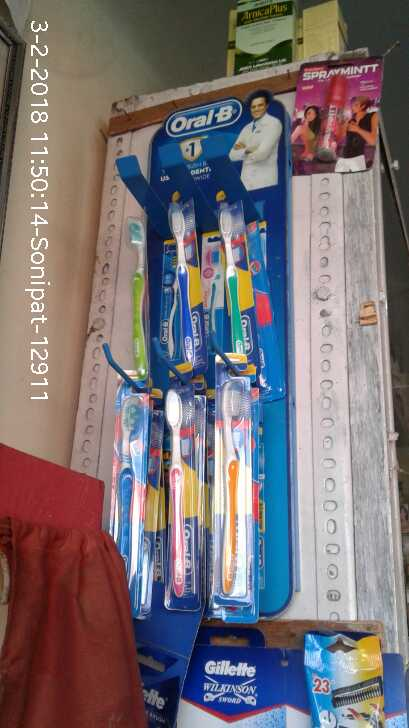oralb: (103, 400, 145, 594), (159, 393, 195, 600), (211, 199, 255, 359), (218, 383, 241, 599), (176, 198, 203, 377), (122, 216, 146, 378)
